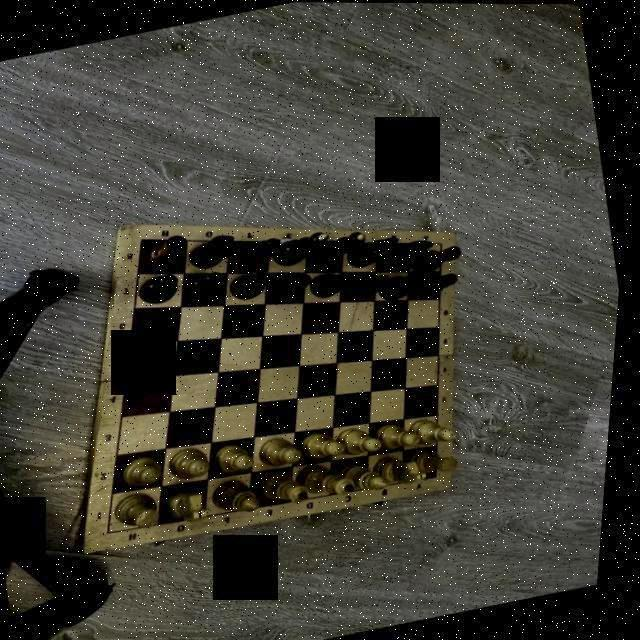chess-table-corners: (110, 526, 123, 536), (139, 233, 151, 243), (440, 237, 450, 246), (440, 472, 446, 476)
